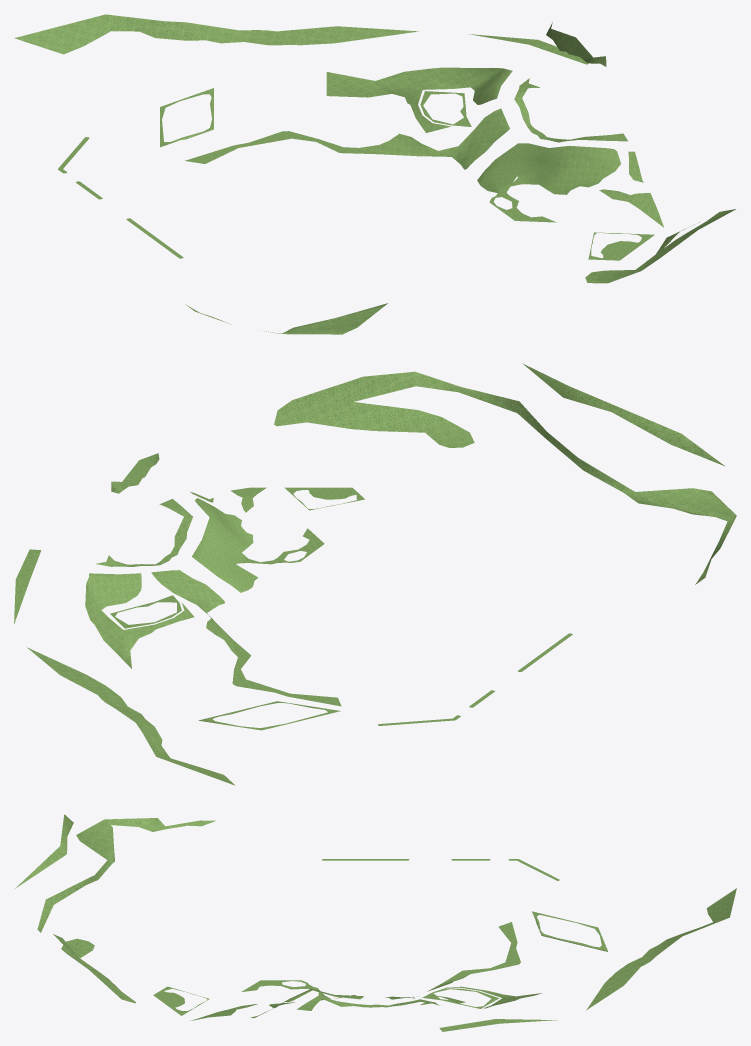
File: kd_connection_town-ground_surface_5_6.glb
3 views of the same model, one above another, from view 1: azimuth 30°, elevation 25°; view 2: azimuth 150°, elevation 25°; view 3: azimuth 270°, elevation 25° (orthographic). The views are drawn at different scales.
Visible parts, largest first — view 1: kd_connection_town-ground_surface_5_6; view 2: kd_connection_town-ground_surface_5_6; view 3: kd_connection_town-ground_surface_5_6.
Part boxes in pixels (x1,y1,x2,y2): kd_connection_town-ground_surface_5_6: (14,14,735,334); kd_connection_town-ground_surface_5_6: (14,363,736,785); kd_connection_town-ground_surface_5_6: (15,814,736,1031).
Size of the model in its own units: 103 by 20.89 by 145.
1 material, 1 textured.
